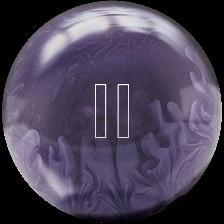Sports-Ball: (5, 5, 224, 224)
